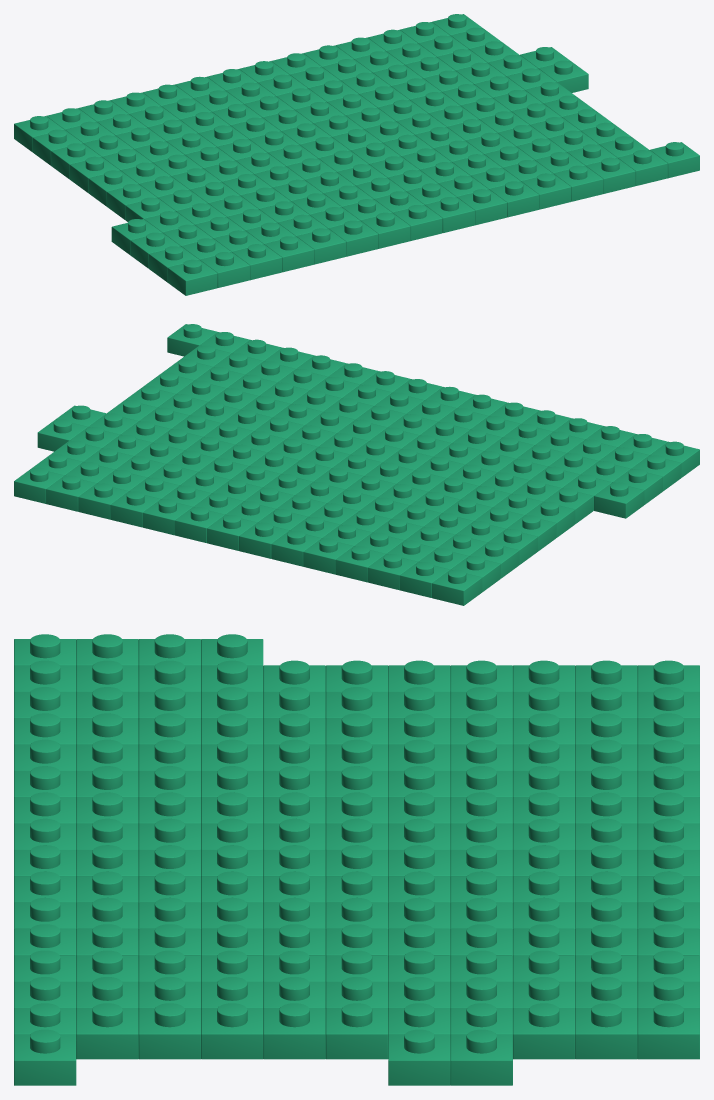
Rendered from Alberta.fbx.
The picture shows the model from 3 angles, top to bottom: view 1: azimuth 30°, elevation 25°; view 2: azimuth 150°, elevation 25°; view 3: azimuth 270°, elevation 25°; orthographic projection. The views are drawn at different scales.
Parts seen in each view (by area): view 1: Cylinder_35; view 2: Cylinder_35; view 3: Cylinder_35.
Part boxes in pixels (x1,y1,x2,y2): Cylinder_35: [14, 14, 699, 295]; Cylinder_35: [14, 324, 699, 605]; Cylinder_35: [14, 634, 699, 1085].
Bounding box in the file's own units: 1600 × 65.03 × 1100.
